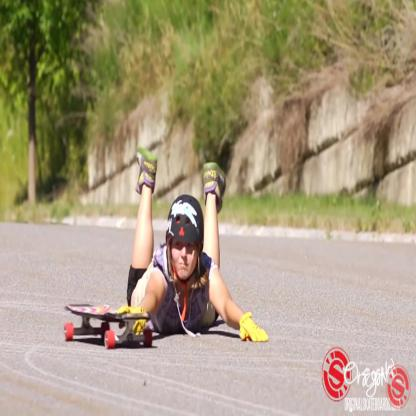Fall_Down: (118, 142, 271, 344)
